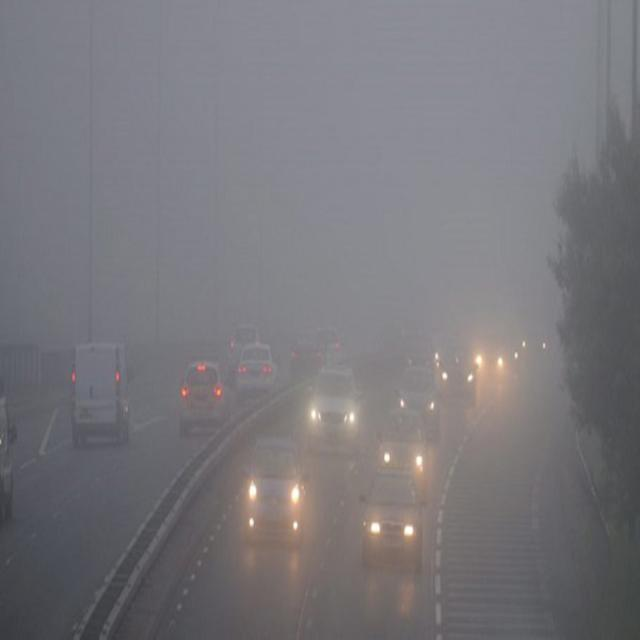car: (243, 437, 306, 555), (359, 461, 422, 573), (72, 339, 130, 443), (306, 363, 361, 453), (177, 359, 228, 433), (394, 365, 440, 437), (0, 392, 20, 528), (235, 343, 277, 402), (440, 341, 476, 401), (471, 329, 507, 377), (291, 331, 323, 371), (321, 322, 341, 361)
